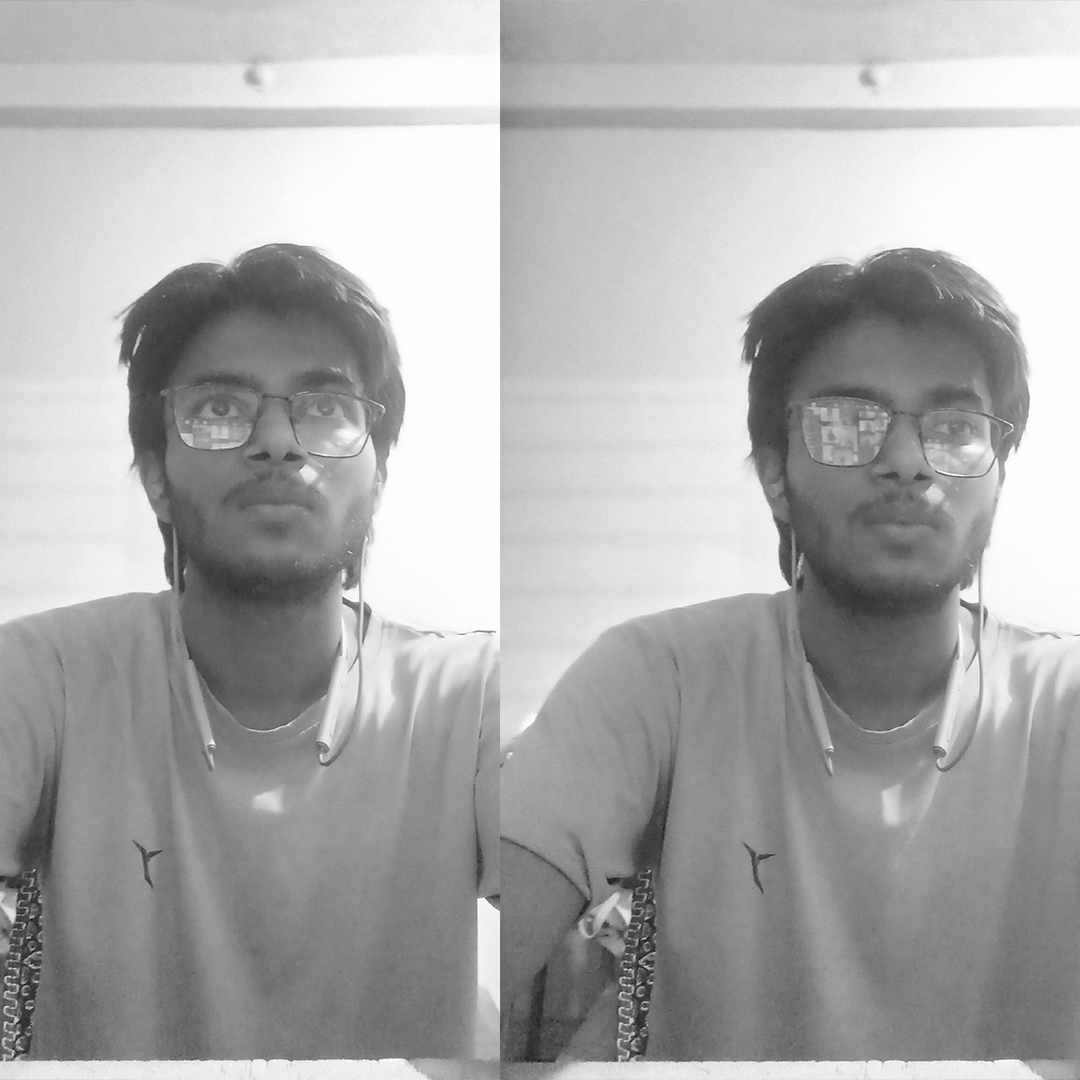Focused: (648, 199, 1047, 685)
distracted: (67, 206, 417, 665)
